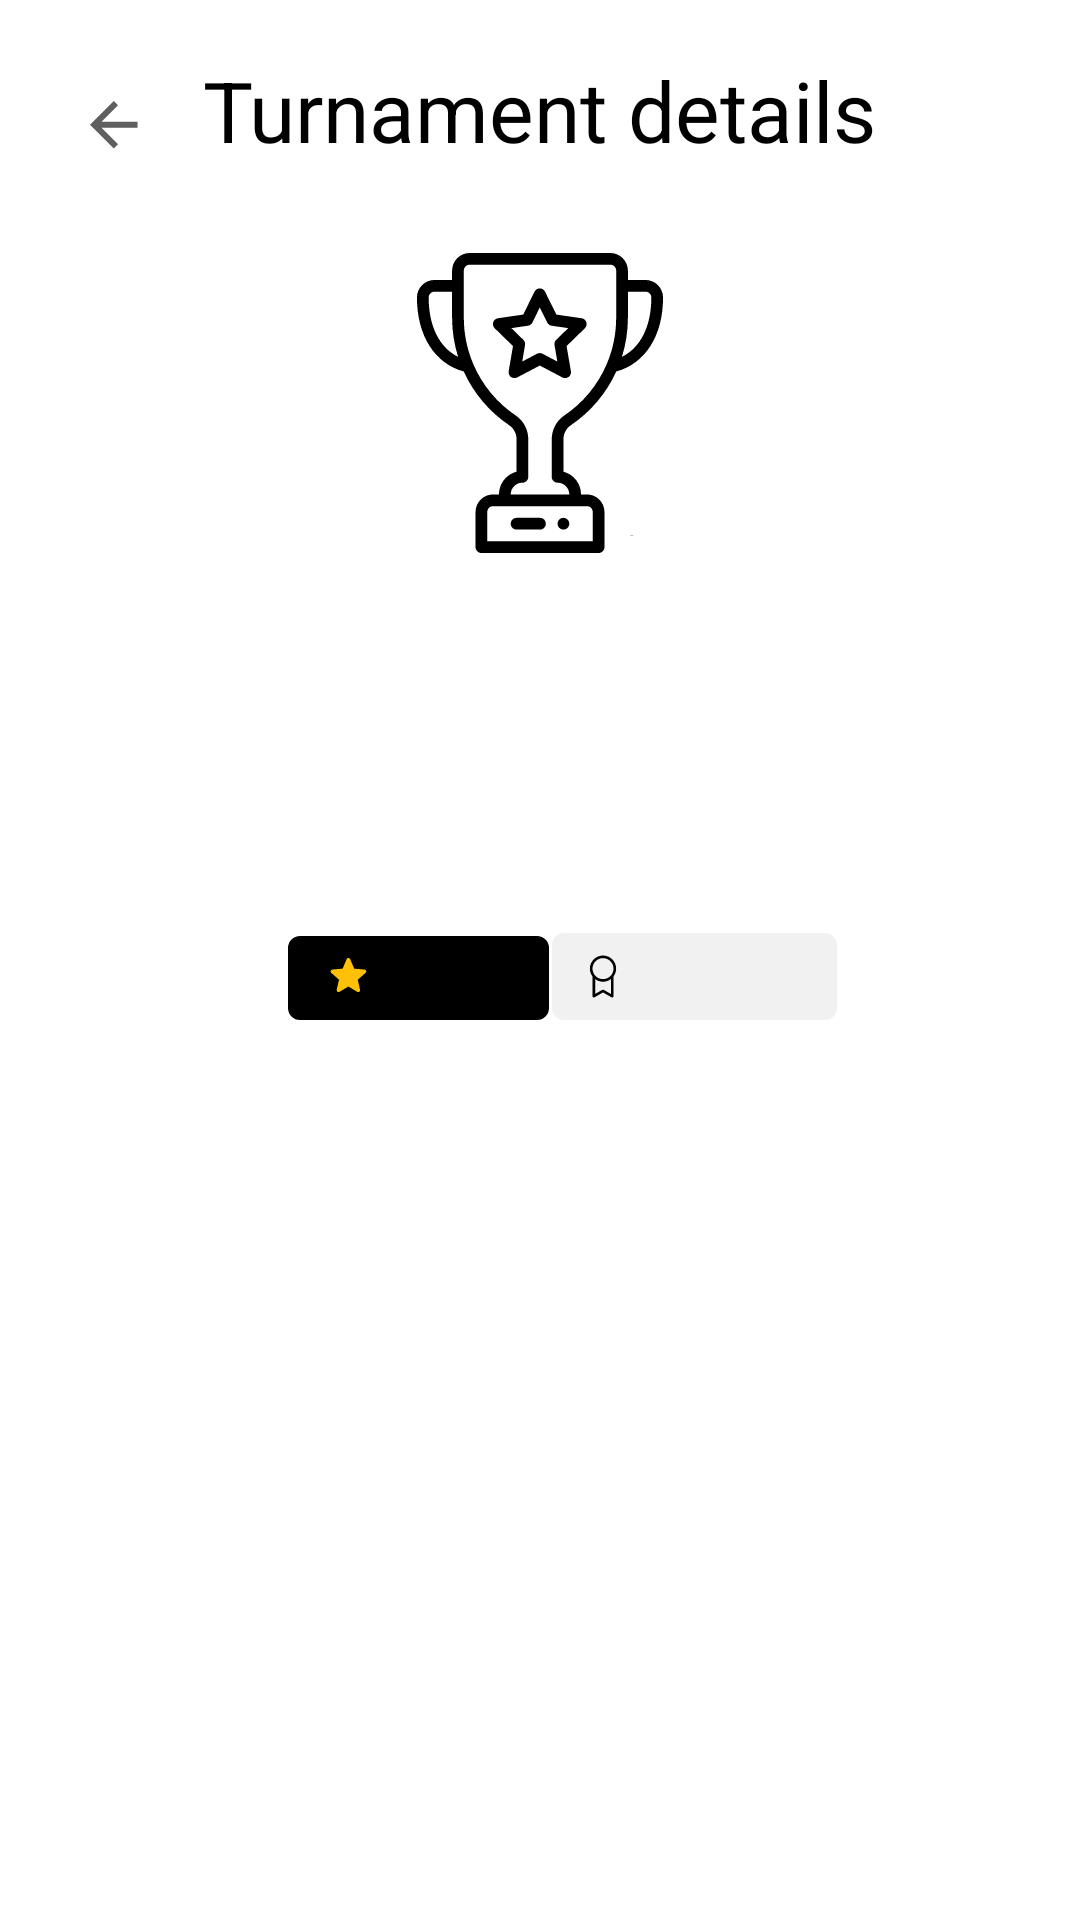

Icon bounding boxes for this 1080 x 1920 phone screenshot, format box=[x1, y1, x2, y2]:
Back arrow button: box=[90, 101, 138, 149]
